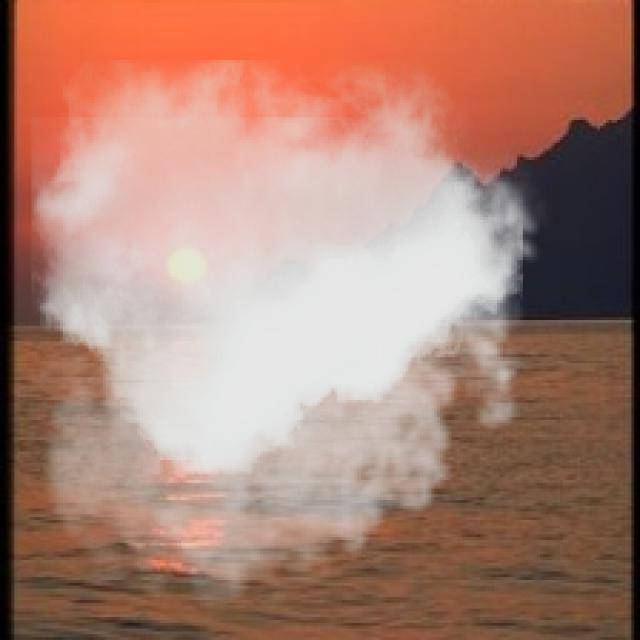Smoke: (32, 60, 554, 623)
